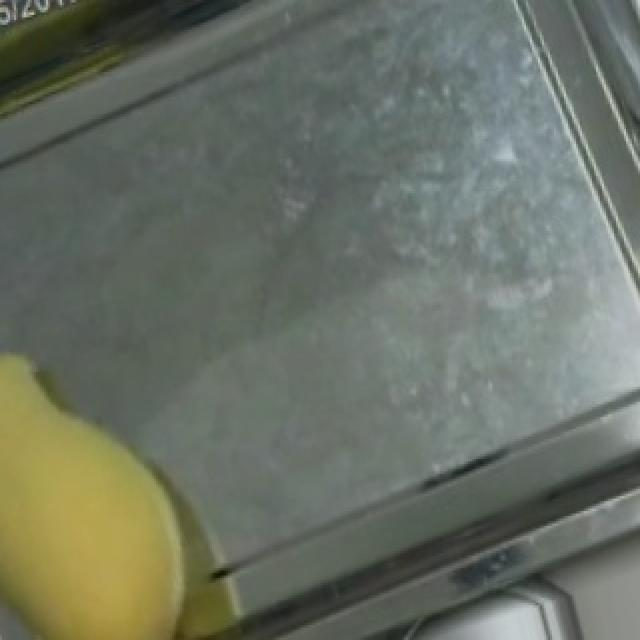fruit: (0, 327, 262, 640)
